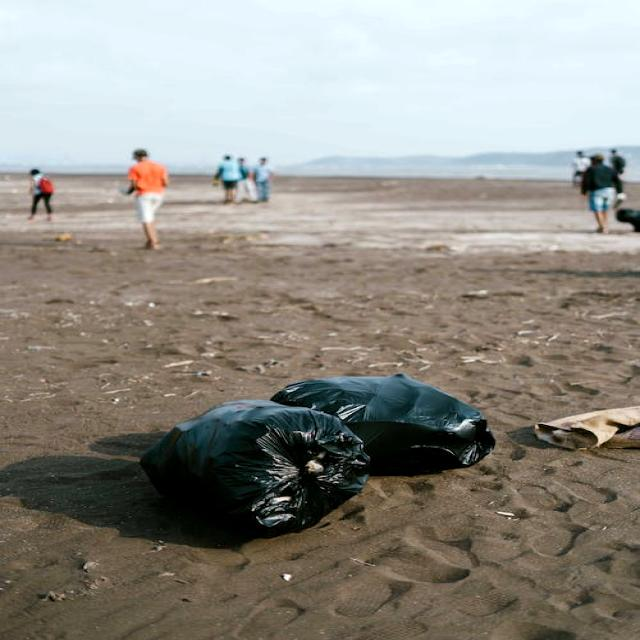Trash: (143, 399, 373, 531), (280, 373, 492, 470), (528, 404, 640, 450)
